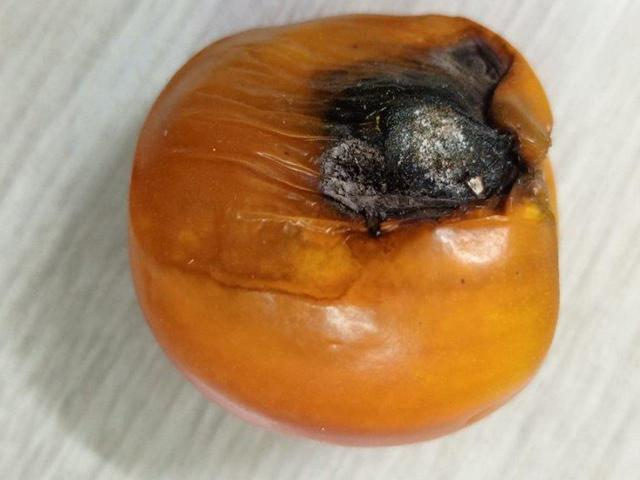defect: (120, 9, 584, 451)
